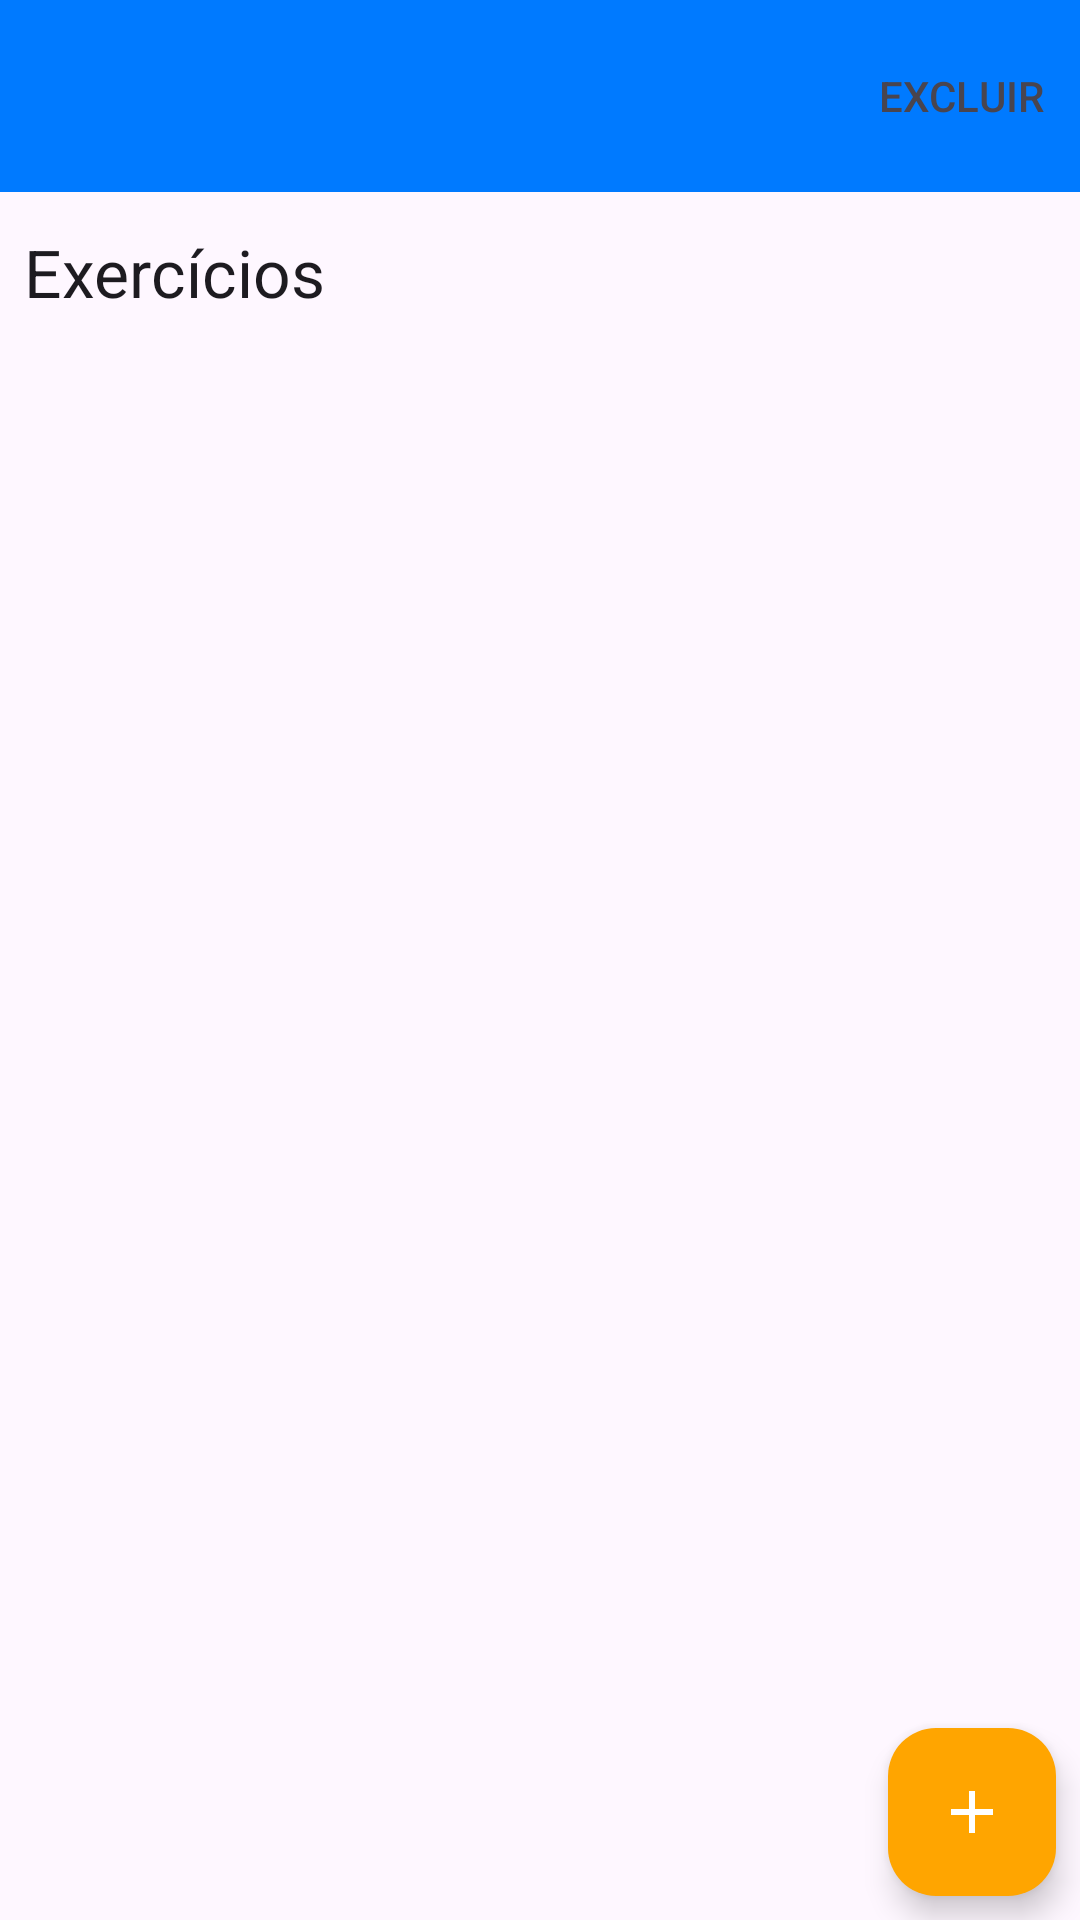

Point at icon controls on the screen. Image size 1080px×1920px, points as [x,y].
Botão para adicionar novo treino: [972,1812]
